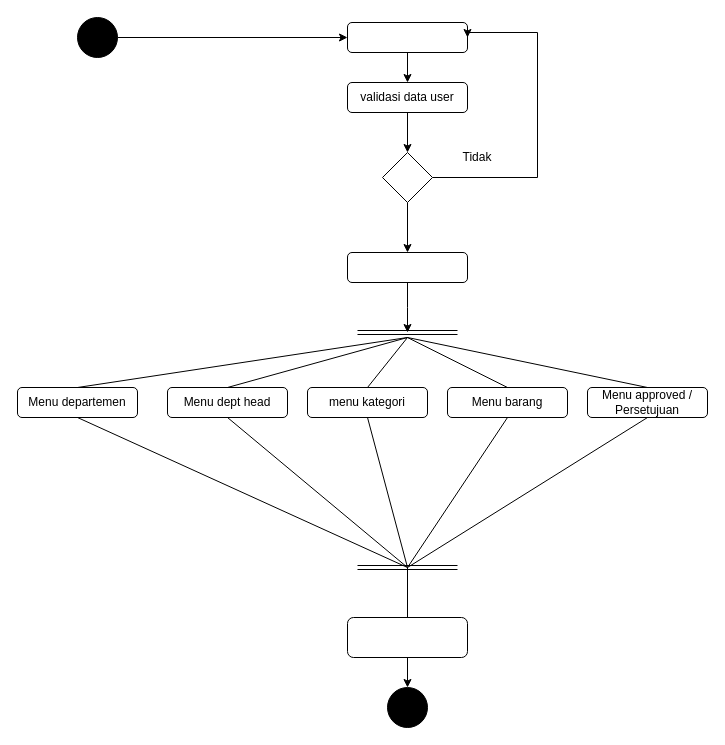
Image size: 725x745. Some labels were removed from this diagram. The shapes that lost their labels are listed below. From the top down, each one's centre as x and y in pixels, then its label:
At (407,37): "Login".
At (407,267): "Menampilkan deashboard admin".
At (407,637): "Database".
